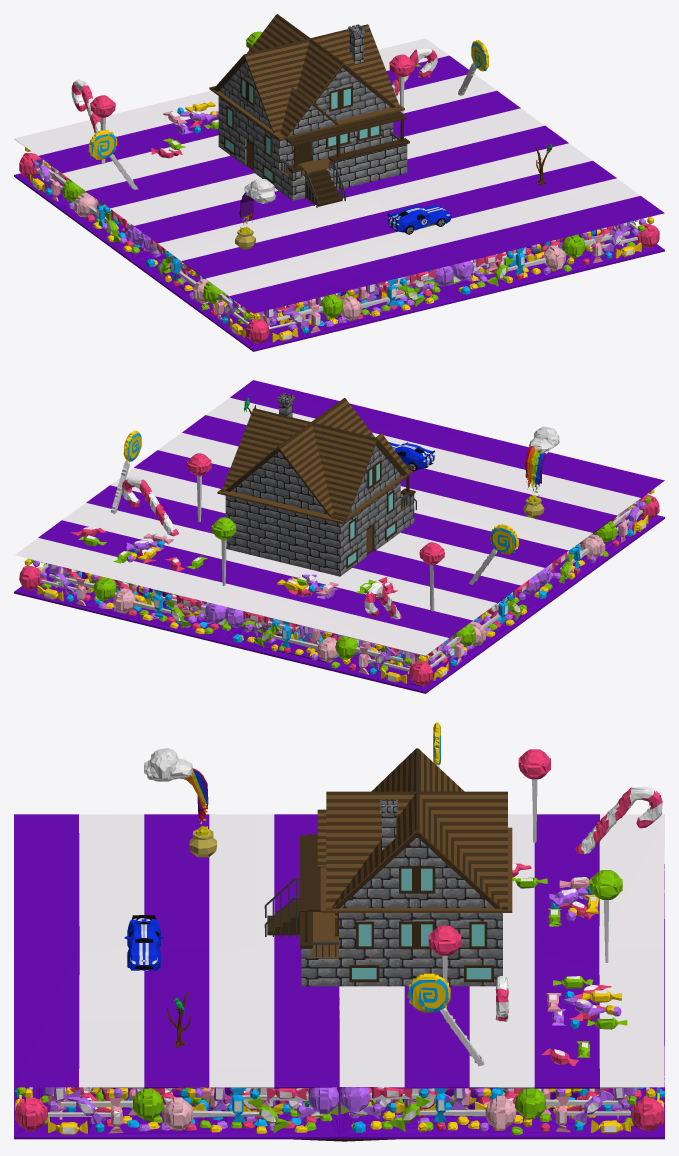
3 views of the same model, one above another, from view 1: azimuth 30°, elevation 25°; view 2: azimuth 150°, elevation 25°; view 3: azimuth 270°, elevation 25° (orthographic). The views are drawn at different scales.
Visible parts, largest first — view 1: TERRAIN_CANDY, Cube.586, OBJRANDOM_RAINBOW, VEHICLES_RACING_CAR; view 2: TERRAIN_CANDY, Cube.586, OBJRANDOM_RAINBOW, VEHICLES_RACING_CAR; view 3: TERRAIN_CANDY, Cube.586, OBJRANDOM_RAINBOW, VEHICLES_RACING_CAR.
Part boxes in pixels (x1,y1,x2,y2): TERRAIN_CANDY: [14, 31, 664, 351]; Cube.586: [209, 14, 409, 207]; OBJRANDOM_RAINBOW: [235, 178, 275, 249]; VEHICLES_RACING_CAR: [387, 205, 451, 234]; TERRAIN_CANDY: [14, 380, 664, 693]; Cube.586: [217, 393, 416, 576]; OBJRANDOM_RAINBOW: [523, 426, 559, 518]; VEHICLES_RACING_CAR: [389, 442, 434, 471]; TERRAIN_CANDY: [14, 722, 664, 1139]; Cube.586: [264, 748, 512, 986]; OBJRANDOM_RAINBOW: [144, 748, 216, 857]; VEHICLES_RACING_CAR: [124, 915, 163, 970].
Size of the model in its own units: 4059 by 1660 by 4000.
34 materials, 3 textured.
